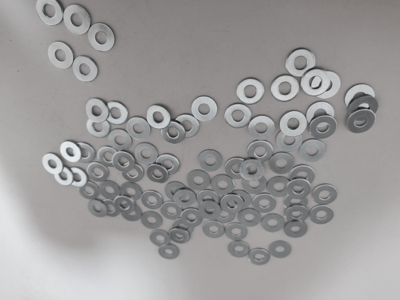circle: (285, 48, 317, 78), (310, 70, 341, 100), (300, 68, 331, 97), (270, 74, 300, 103), (47, 41, 76, 71), (63, 5, 92, 35), (344, 84, 376, 111), (88, 23, 116, 53), (236, 77, 265, 105), (306, 101, 335, 129), (190, 96, 219, 124), (35, 0, 65, 27), (347, 96, 378, 122), (224, 102, 252, 129), (73, 55, 99, 84), (346, 109, 376, 134), (280, 110, 307, 137), (173, 113, 201, 139), (309, 115, 338, 140), (248, 115, 275, 141), (246, 139, 274, 164), (276, 128, 304, 153), (146, 104, 172, 130), (299, 139, 326, 164), (160, 120, 186, 145), (269, 151, 295, 176), (107, 129, 134, 153), (126, 116, 151, 141), (105, 99, 129, 125), (185, 169, 211, 193), (85, 115, 110, 139), (85, 97, 108, 123), (119, 161, 145, 184), (290, 164, 316, 187), (283, 191, 309, 214), (59, 140, 83, 164), (156, 154, 181, 177), (134, 142, 159, 165), (198, 150, 223, 173), (225, 157, 250, 180), (242, 173, 267, 196), (211, 174, 236, 197), (312, 184, 338, 206), (73, 142, 97, 165), (267, 176, 291, 199), (98, 179, 122, 202), (240, 159, 265, 181), (287, 177, 312, 199), (86, 161, 110, 183), (112, 151, 136, 173), (252, 193, 277, 214), (237, 207, 262, 228), (160, 201, 185, 222), (309, 205, 335, 225), (77, 180, 101, 201), (146, 164, 170, 185), (196, 189, 220, 210), (198, 200, 222, 221), (119, 201, 143, 222), (119, 182, 143, 203), (42, 153, 64, 175), (65, 166, 87, 188), (52, 166, 75, 187), (221, 194, 244, 215), (141, 210, 164, 231), (141, 190, 164, 211), (164, 181, 187, 202), (261, 214, 285, 234), (202, 220, 226, 240), (179, 208, 203, 228), (268, 241, 293, 260), (284, 206, 310, 224), (247, 247, 270, 267), (225, 222, 248, 242), (99, 198, 122, 218), (284, 220, 308, 239), (173, 188, 195, 208), (114, 195, 136, 215), (149, 229, 172, 248), (86, 199, 109, 218), (157, 243, 181, 261), (168, 228, 192, 246), (228, 240, 249, 259)
